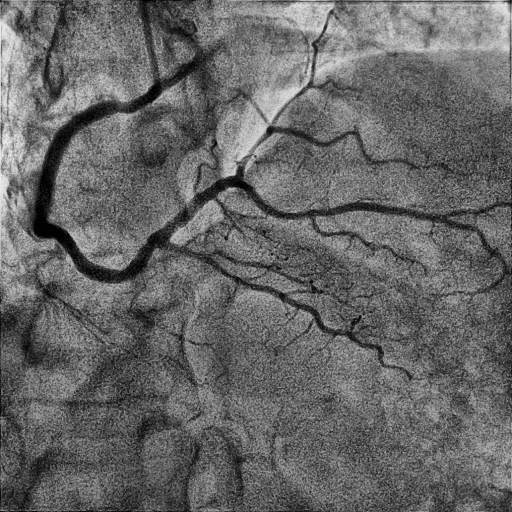pborca: (157, 176, 474, 242)
pda: (164, 242, 417, 380)
rca: (34, 100, 168, 284)
